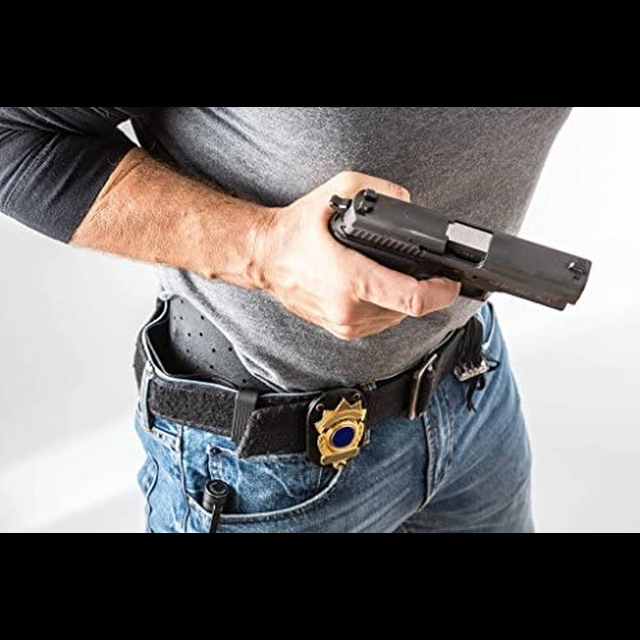SILAH: (287, 153, 601, 346)
